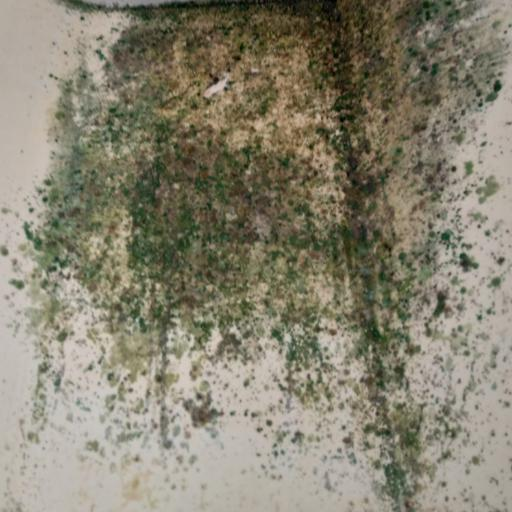algae: (66, 11, 512, 485)
